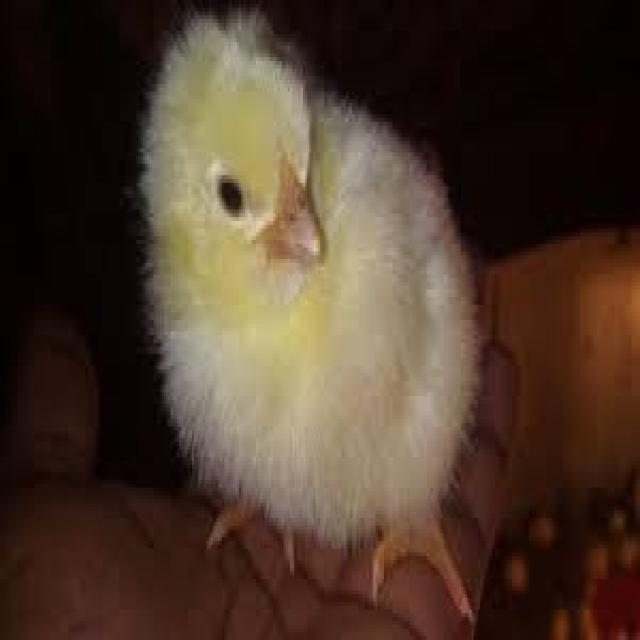poussin: (132, 8, 486, 622)
